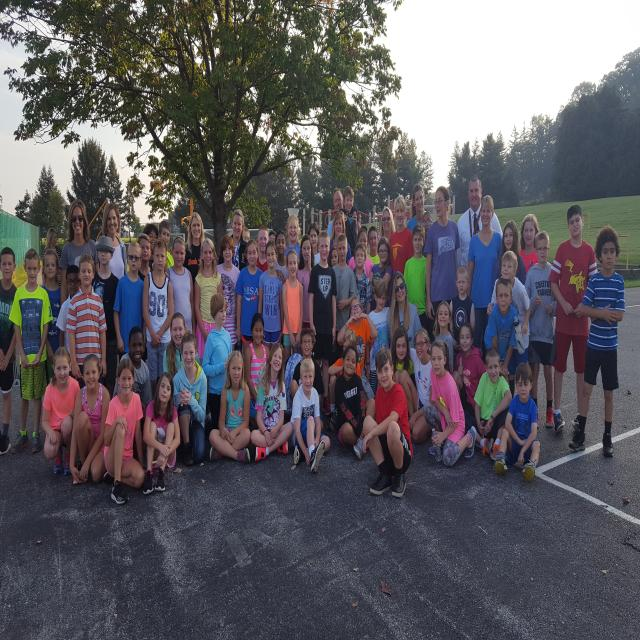body: (568, 223, 627, 459), (548, 203, 600, 436), (8, 246, 54, 459), (361, 346, 414, 502), (425, 337, 479, 469), (102, 357, 148, 510), (524, 230, 559, 428), (365, 278, 420, 401), (487, 250, 531, 400), (306, 228, 339, 419), (423, 185, 462, 342), (466, 194, 503, 358), (40, 343, 83, 478), (493, 362, 541, 482), (65, 253, 107, 389), (140, 369, 183, 498), (69, 354, 111, 484), (193, 237, 223, 418), (142, 237, 175, 400), (250, 342, 294, 461), (468, 344, 513, 460), (208, 348, 252, 466), (0, 244, 24, 458), (334, 343, 376, 462), (172, 328, 208, 466), (291, 355, 332, 476), (455, 174, 505, 272), (91, 235, 120, 402), (58, 198, 100, 308), (112, 240, 148, 366), (201, 292, 233, 430), (337, 295, 378, 400), (399, 327, 434, 446), (111, 326, 153, 419), (330, 232, 359, 365), (326, 328, 362, 435), (453, 321, 486, 437), (483, 277, 518, 386), (234, 238, 264, 358), (243, 312, 271, 434), (165, 236, 196, 340), (55, 263, 82, 380), (258, 240, 284, 353), (386, 273, 423, 352), (402, 222, 428, 331), (216, 235, 240, 352), (41, 246, 61, 386), (390, 326, 418, 426), (281, 248, 305, 362), (449, 264, 476, 364), (290, 327, 324, 405), (162, 311, 200, 378), (492, 220, 526, 292), (100, 202, 128, 283), (389, 195, 415, 276), (295, 234, 316, 329), (218, 208, 249, 272), (368, 236, 393, 313), (326, 186, 359, 243), (432, 300, 455, 376), (338, 185, 362, 257), (182, 211, 205, 284), (350, 241, 372, 315), (41, 227, 64, 289), (327, 210, 352, 266), (518, 212, 539, 275), (348, 228, 374, 278), (153, 219, 175, 273), (375, 205, 396, 258), (406, 183, 426, 234), (274, 228, 292, 284), (284, 214, 302, 264), (136, 233, 154, 282), (142, 221, 159, 271), (256, 225, 270, 272), (366, 225, 381, 266), (422, 211, 434, 259), (307, 222, 320, 265), (328, 245, 339, 268), (268, 227, 277, 245), (241, 226, 250, 242), (360, 224, 368, 235)
